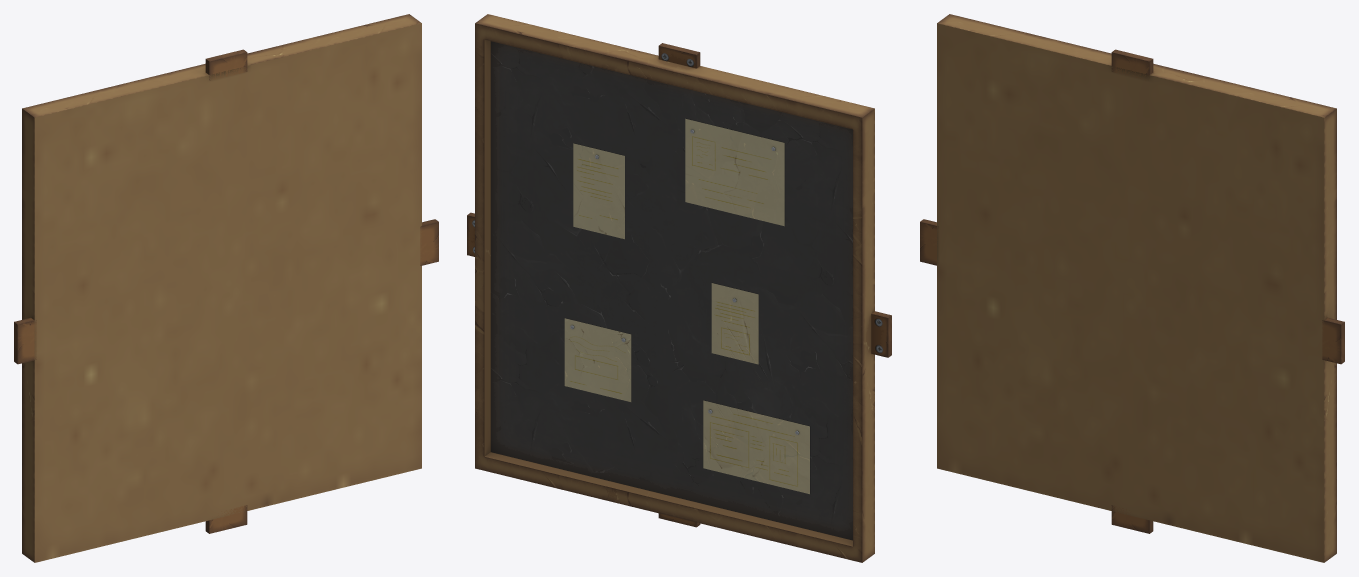
Rendered from Board.obj.
3 renders of one model, left to right at view 1: azimuth 30°, elevation 25°; view 2: azimuth 150°, elevation 25°; view 3: azimuth 330°, elevation 25°, orthographic.
Visible parts, largest first — view 1: Board; view 2: Board; view 3: Board.
Part boxes in pixels (bbox=[...]): Board: bbox=[14, 14, 438, 562]; Board: bbox=[467, 14, 891, 562]; Board: bbox=[920, 14, 1344, 562].
Size of the model in its own units: 5.58 by 5.98 by 0.2895.
